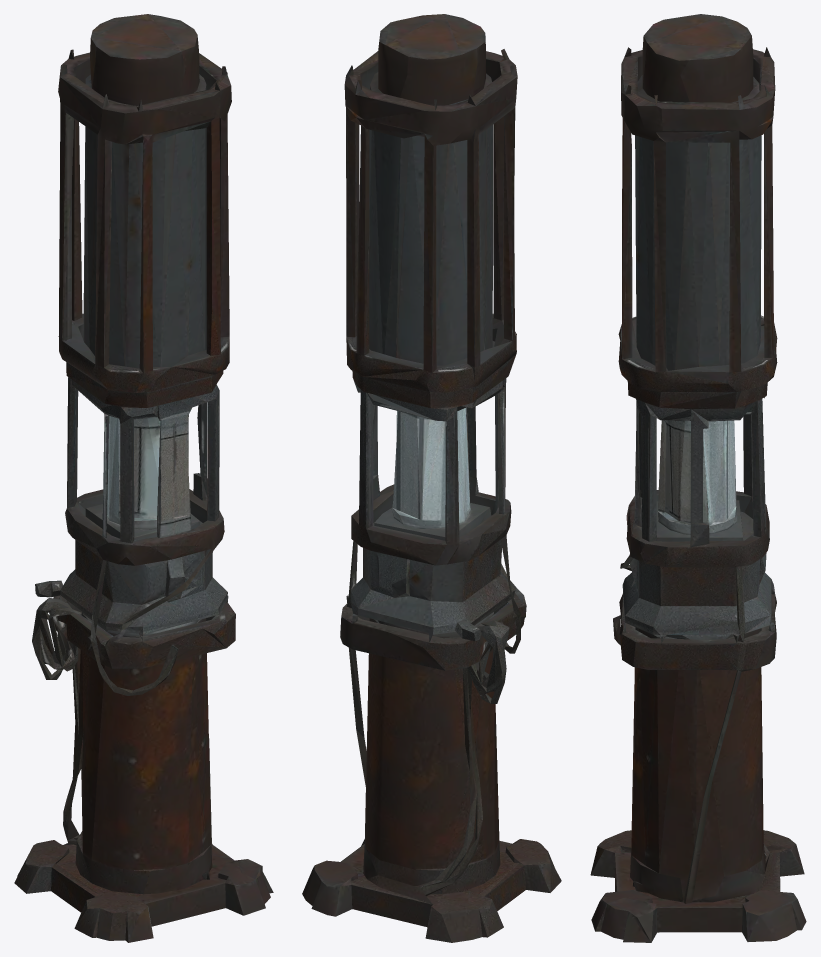
File: stim_pylon.glb
3 renders of one model, left to right at view 1: azimuth 30°, elevation 25°; view 2: azimuth 150°, elevation 25°; view 3: azimuth 270°, elevation 25°, orthographic.
Bounding box in the file's own units: 0.6053 × 2.6 × 0.5916.
1 material, 1 textured.
